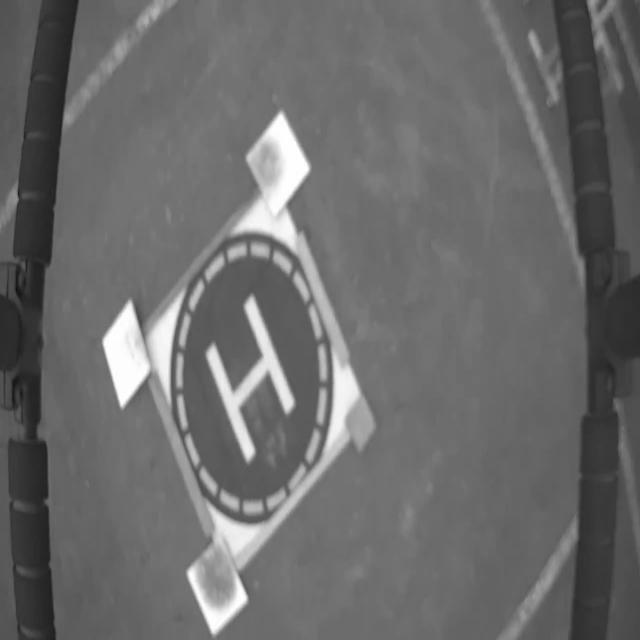Helipad: (206, 294, 296, 468)
